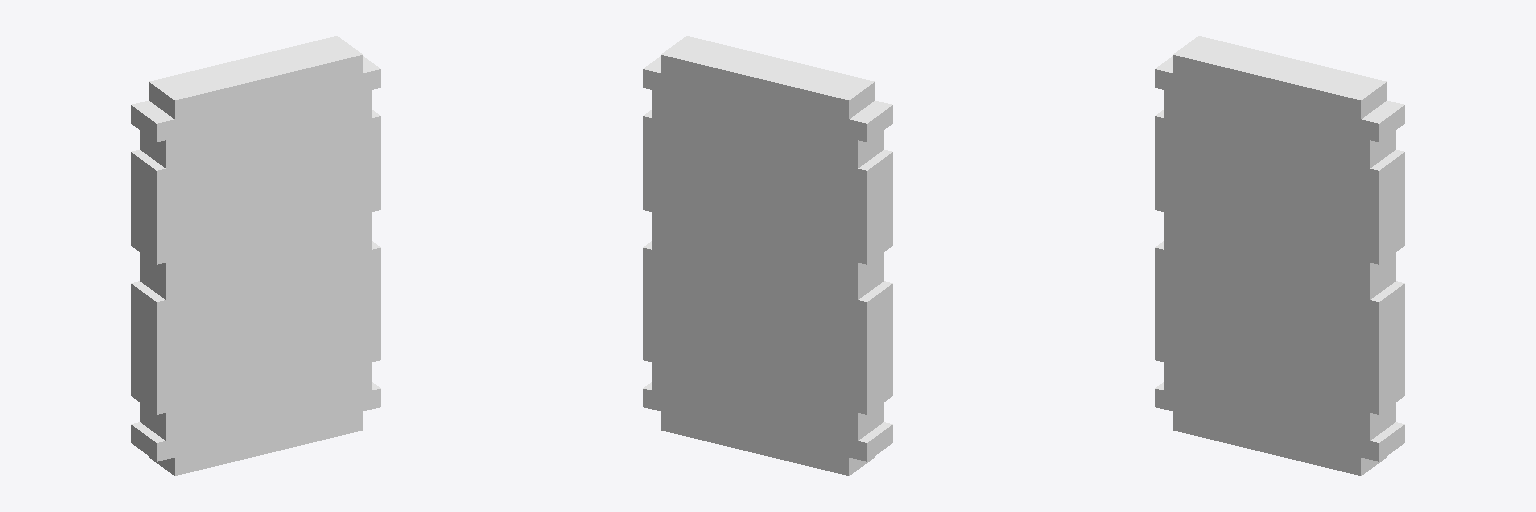
Rendered from RedKeycard.obj.
The picture shows the model from 3 angles: view 1: azimuth 30°, elevation 25°; view 2: azimuth 150°, elevation 25°; view 3: azimuth 330°, elevation 25°; orthographic projection.
Visible parts, largest first — view 1: object 1; view 2: object 1; view 3: object 1.
Part boxes in pixels (left/top/right/bottom): object 1: left=131, top=36, right=380, bottom=475; object 1: left=643, top=36, right=892, bottom=475; object 1: left=1155, top=36, right=1404, bottom=475.
Bounding box in the file's own units: 2.5 × 4 × 0.5.